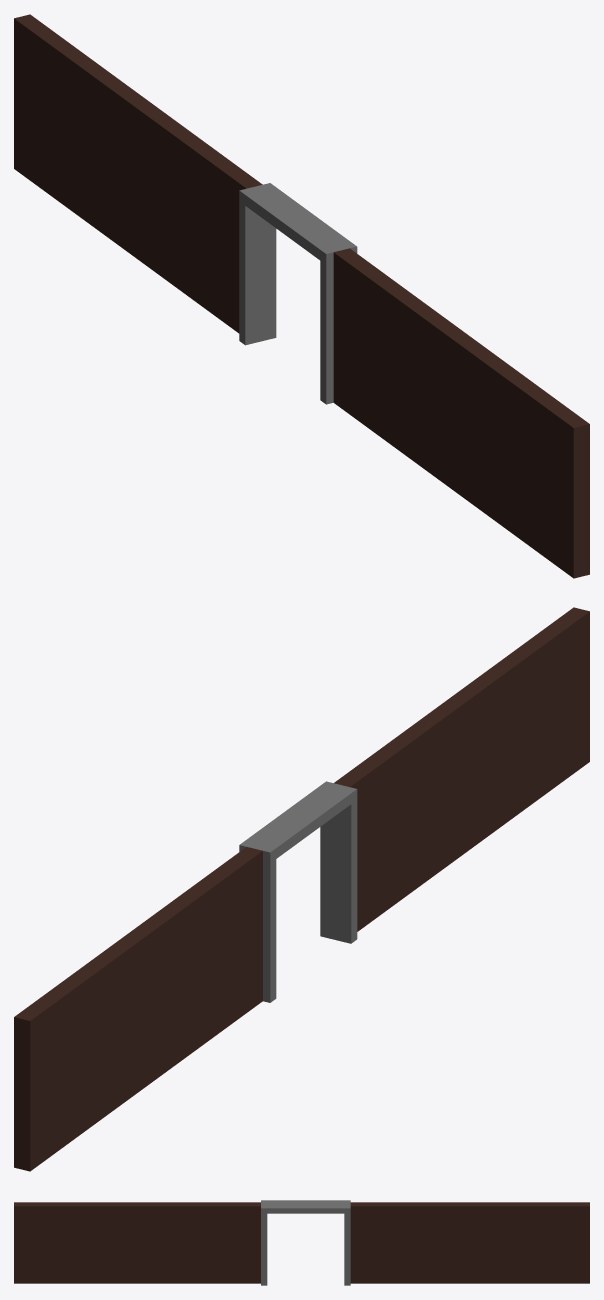
File: TUONGRONG_BONGRO.fbx
3 views of the same model, one above another, from view 1: azimuth 30°, elevation 25°; view 2: azimuth 150°, elevation 25°; view 3: azimuth 270°, elevation 25° (orthographic). The views are drawn at different scales.
Visible parts, largest first — view 1: TUONGRONG_BONGRO; view 2: TUONGRONG_BONGRO; view 3: TUONGRONG_BONGRO.
Part boxes in pixels (x1=…): TUONGRONG_BONGRO: x1=14, y1=14, x2=589, y2=578; TUONGRONG_BONGRO: x1=14, y1=607, x2=589, y2=1171; TUONGRONG_BONGRO: x1=14, y1=1200, x2=589, y2=1285.
Bounding box in the file's own units: 114 × 532 × 3584.
